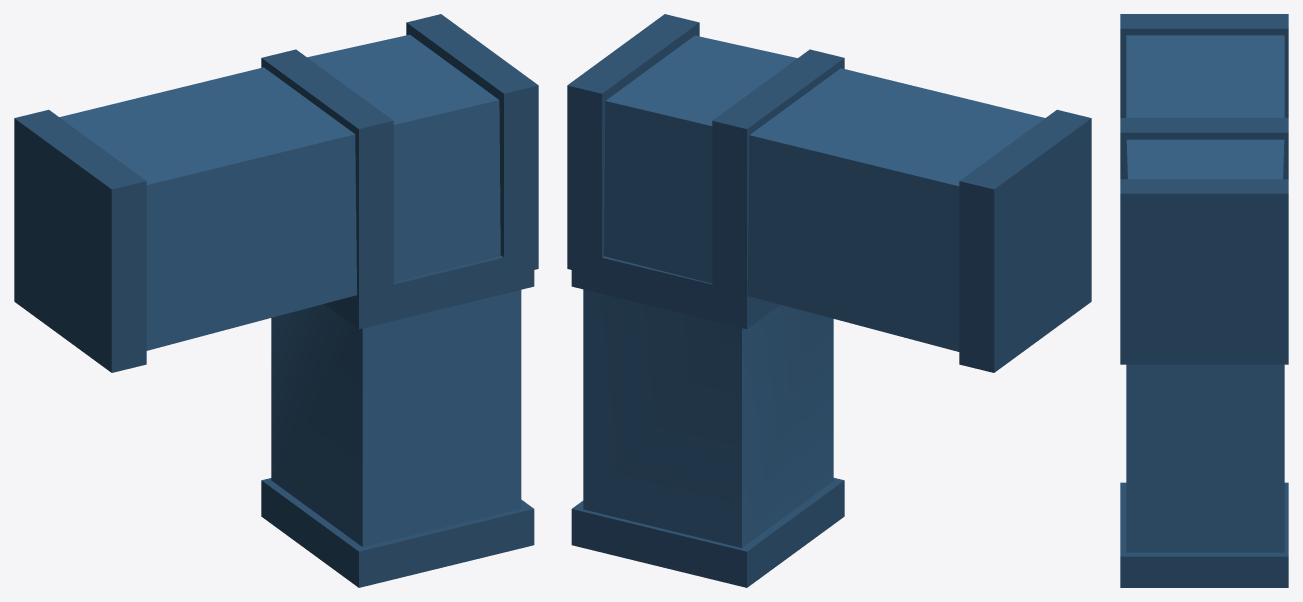
Rendered from Vent_2_C_6.fbx.
The picture shows the model from 3 angles, left to right: view 1: azimuth 30°, elevation 25°; view 2: azimuth 150°, elevation 25°; view 3: azimuth 270°, elevation 25°; orthographic projection. The views are drawn at different scales.
Visible parts, largest first — view 1: Vent_2_C_6; view 2: Vent_2_C_6; view 3: Vent_2_C_6.
Part boxes in pixels (x1,y1,x2,y2): Vent_2_C_6: (14,14,538,587); Vent_2_C_6: (567,14,1091,587); Vent_2_C_6: (1120,14,1288,587).
Bounding box in the file's own units: 90.02 × 92.44 × 35.62.
